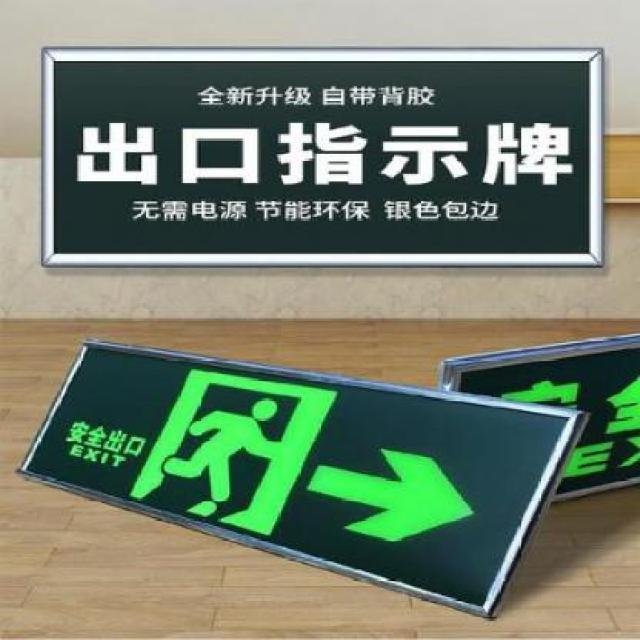exit_sign: (40, 338, 560, 606)
